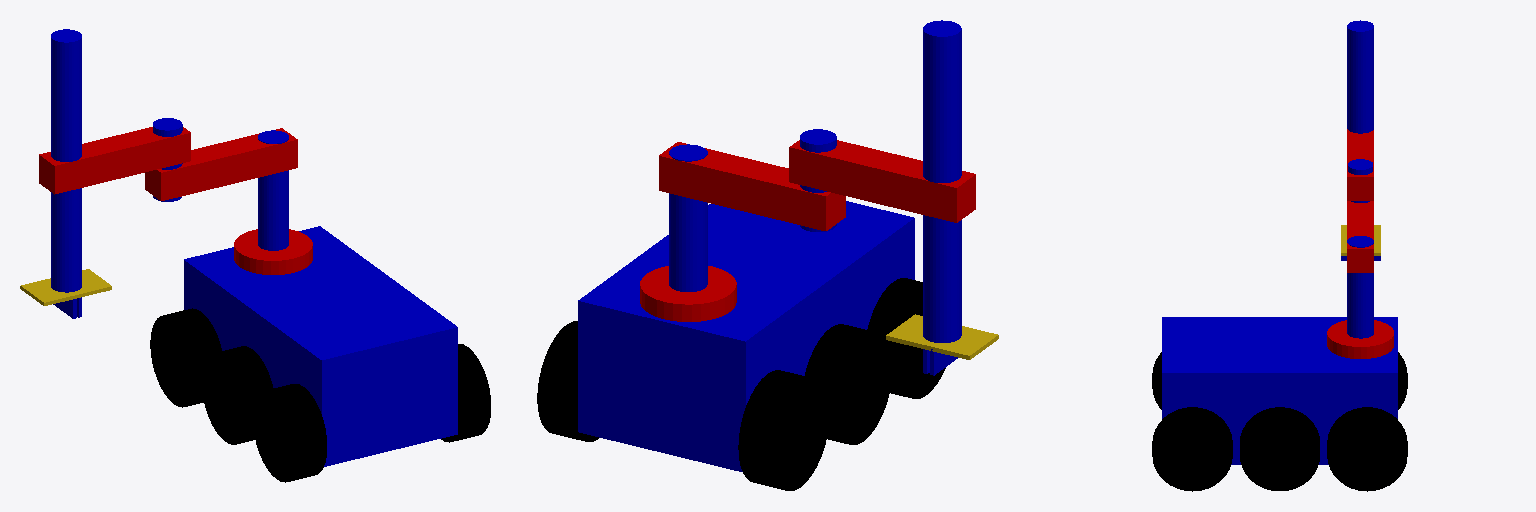
The robot description file, URDF, robot "spydy_gonzalez":
<robot name="spydy_gonzalez" version="1.0">
  <joint name="finger_1_link_joint" type="prismatic">
    <limit lower="0.00000" upper="0.00000" effort="15.00000" velocity="1.00000"/>
    <origin rpy="0.00000 0.00000 0.00000" xyz="0.03000 0.00000 -0.15000"/>
    <parent link="fingers_base_link"/>
    <child link="finger_1_link"/>
    <axis xyz="1.00000 0.00000 0.00000"/>
  </joint>
  <joint name="finger_2_link_joint" type="prismatic">
    <limit lower="0.00000" upper="0.00000" effort="15.00000" velocity="1.00000"/>
    <origin rpy="0.00000 0.00000 0.00000" xyz="-0.05000 0.00000 -0.15000"/>
    <parent link="fingers_base_link"/>
    <child link="finger_2_link"/>
    <axis xyz="-1.00000 0.00000 0.00000"/>
  </joint>
  <joint name="fingers_base_link_joint" type="continuous">
    <limit lower="-90" upper="90" effort="0.00000" velocity="0.00000"/>
    <origin rpy="0.00000 0.00000 0.00000" xyz="0.00000 -0.00000 -1.65000"/>
    <parent link="scara_gripper_arm_link"/>
    <child link="fingers_base_link"/>
    <axis xyz="0.00000 0.00000 1.00000"/>
  </joint>
  <joint name="left_center_wheel_link_joint" type="continuous">
    <limit lower="0" upper="0" effort="0.00000" velocity="0.00000"/>
    <origin rpy="-0.00000 1.57080 0.00000" xyz="-1.20000 0.00000 -0.40000"/>
    <parent link="base_link"/>
    <child link="left_center_wheel_link"/>
    <axis xyz="0.00000 0.00000 1.00000"/>
  </joint>
  <joint name="left_front_wheel_link_joint" type="continuous">
    <limit lower="0" upper="0" effort="0.00000" velocity="0.00000"/>
    <origin rpy="-0.00000 1.57080 0.00000" xyz="-1.20000 -1.30000 -0.40000"/>
    <parent link="base_link"/>
    <child link="left_front_wheel_link"/>
    <axis xyz="0.00000 0.00000 1.00000"/>
  </joint>
  <joint name="left_rear_wheel_link_joint" type="continuous">
    <limit lower="0" upper="0" effort="0.00000" velocity="0.00000"/>
    <origin rpy="-0.00000 1.57080 0.00000" xyz="-1.20000 1.30000 -0.40000"/>
    <parent link="base_link"/>
    <child link="left_rear_wheel_link"/>
    <axis xyz="0.00000 0.00000 1.00000"/>
  </joint>
  <joint name="right_center_wheel_link_joint" type="continuous">
    <limit lower="0" upper="0" effort="0.00000" velocity="0.00000"/>
    <origin rpy="-0.00000 1.57080 0.00000" xyz="1.20000 0.00000 -0.40000"/>
    <parent link="base_link"/>
    <child link="right_center_wheel_link"/>
    <axis xyz="0.00000 0.00000 1.00000"/>
  </joint>
  <joint name="right_front_wheel_link_joint" type="continuous">
    <limit lower="0" upper="0" effort="0.00000" velocity="0.00000"/>
    <origin rpy="-0.00000 1.57080 0.00000" xyz="1.20000 -1.30000 -0.40000"/>
    <parent link="base_link"/>
    <child link="right_front_wheel_link"/>
    <axis xyz="0.00000 0.00000 1.00000"/>
  </joint>
  <joint name="right_rear_wheel_link_joint" type="continuous">
    <limit lower="0" upper="0" effort="0.00000" velocity="0.00000"/>
    <origin rpy="-0.00000 1.57080 0.00000" xyz="1.20000 1.30000 -0.40000"/>
    <parent link="base_link"/>
    <child link="right_rear_wheel_link"/>
    <axis xyz="0.00000 0.00000 1.00000"/>
  </joint>
  <joint name="scara_base_link_joint" type="fixed">
    <origin rpy="0.00000 0.00000 0.00000" xyz="0.00000 1.20000 0.85000"/>
    <parent link="base_link"/>
    <child link="scara_base_link"/>
  </joint>
  <joint name="scara_gripper_arm_link_joint" type="prismatic">
    <limit lower="-1.5" upper="1.5" effort="15.00000" velocity="1.00000"/>
    <origin rpy="0.00000 0.00000 0.00000" xyz="-0.71000 0.00000 0.00000"/>
    <parent link="scara_l2_link"/>
    <child link="scara_gripper_arm_link"/>
    <axis xyz="0.00000 0.00000 1.00000"/>
  </joint>
  <joint name="scara_l1_link_joint" type="fixed">
    <origin rpy="0.00000 0.00000 0.00000" xyz="-0.76000 -0.00000 1.04000"/>
    <parent link="scara_q1_link"/>
    <child link="scara_l1_link"/>
  </joint>
  <joint name="scara_l2_link_joint" type="fixed">
    <origin rpy="0.00000 0.00000 0.00000" xyz="-0.77000 -0.00000 0.21000"/>
    <parent link="scara_q2_link"/>
    <child link="scara_l2_link"/>
  </joint>
  <joint name="scara_q1_link_joint" type="continuous">
    <limit lower="-90" upper="90"  effort="15.00000" velocity="1.00000"/>
    <origin rpy="0.00000 0.00000 0.00000" xyz="0.00000 0.00000 0.85000"/>
    <parent link="scara_base_link"/>
    <child link="scara_q1_link"/>
    <axis xyz="0.00000 0.00000 1.00000"/>
  </joint>
  <joint name="scara_q2_link_joint" type="continuous">
    <limit lower="-90" upper="90" effort="15.00000" velocity="1.00000"/>
    <origin rpy="0.00000 0.00000 0.00000" xyz="-0.79000 -0.00000 -0.25000"/>
    <parent link="scara_l1_link"/>
    <child link="scara_q2_link"/>
    <axis xyz="0.00000 0.00000 1.00000"/>
  </joint>
  <link name="base_link">
    <collision name="base_collision">
      <origin rpy="0.00000 0.00000 0.00000" xyz="0.00000 0.00000 0.00000"/>
      <geometry>
        <box size="2.00000 3.50000 1.50000"/>
      </geometry>
    </collision>
    <inertial>
      <inertia ixx="120.83333" ixy="0.00000" ixz="0.00000" iyy="52.08333" iyz="0.00000" izz="135.41667"/>
      <origin rpy="0.00000 0.00000 0.00000" xyz="0.00000 0.00000 0.00000"/>
      <mass value="100.00000"/>
    </inertial>
    <visual name="base">
      <origin rpy="0.00000 0.00000 0.00000" xyz="0.00000 0.00000 0.00000"/>
      <material name="Material.002"/>
      <geometry>
        <mesh filename="../meshes/dae/Cube.001.dae" scale="1.00000 1.75000 0.75000"/>
      </geometry>
    </visual>
  </link>
  <link name="finger_1_link">
    <collision name="finger_1_collision">
      <origin rpy="0.00000 0.00000 0.00000" xyz="-0.00000 0.00000 -0.00000"/>
      <geometry>
        <box size="0.05000 0.60000 0.30000"/>
      </geometry>
    </collision>
    <inertial>
      <inertia ixx="0.03750" ixy="0.00000" ixz="0.00000" iyy="0.00771" iyz="0.00000" izz="0.03021"/>
      <origin rpy="0.00000 0.00000 0.00000" xyz="0.00000 -0.00000 0.00000"/>
      <mass value="5.00000"/>
    </inertial>
    <visual name="finger_1">
      <origin rpy="0.00000 0.00000 0.00000" xyz="-0.00000 0.00000 -0.00000"/>
      <material name="Material.002"/>
      <geometry>
        <box size="0.05000 0.60000 0.30000"/>
      </geometry>
    </visual>
  </link>
  <link name="finger_2_link">
    <collision name="finger_2_collision">
      <origin rpy="0.00000 0.00000 0.00000" xyz="-0.00000 0.00000 -0.00000"/>
      <geometry>
        <box size="0.05000 0.60000 0.30000"/>
      </geometry>
    </collision>
    <inertial>
      <inertia ixx="0.03750" ixy="0.00000" ixz="0.00000" iyy="0.00771" iyz="0.00000" izz="0.03021"/>
      <origin rpy="0.00000 0.00000 0.00000" xyz="-0.00000 -0.00000 0.00000"/>
      <mass value="5.00000"/>
    </inertial>
    <visual name="finger_2">
      <origin rpy="0.00000 0.00000 0.00000" xyz="-0.00000 0.00000 -0.00000"/>
      <material name="Material.002"/>
      <geometry>
        <box size="0.05000 0.60000 0.30000"/>
      </geometry>
    </visual>
  </link>
  <link name="fingers_base_link">
    <collision name="fingers_base_collision">
      <origin rpy="0.00000 0.00000 0.00000" xyz="0.00000 0.00000 0.00000"/>
      <geometry>
        <mesh filename="../meshes/dae/Cube.220.dae" scale="1.00000 1.00000 1.00000"/>
      </geometry>
    </collision>
    <inertial>
      <inertia ixx="0.45312" ixy="0.00000" ixz="0.00000" iyy="1.25313" iyz="0.00000" izz="1.70000"/>
      <origin rpy="0.00000 0.00000 0.00000" xyz="-0.00000 -0.00000 0.00000"/>
      <mass value="5.00000"/>
    </inertial>
    <visual name="fingers_base">
      <origin rpy="0.00000 0.00000 0.00000" xyz="-0.00000 0.00000 0.00000"/>
      <material name="Material.003"/>
      <geometry>
        <mesh filename="../meshes/dae/Cube.219.dae" scale="0.50000 0.30000 0.02500"/>
      </geometry>
    </visual>
  </link>
  <link name="left_center_wheel_link">
    <collision name="left_center_wheel_collision">
      <origin rpy="0.00000 0.00000 0.00000" xyz="0.00000 0.00000 -0.00000"/>
      <geometry>
        <mesh filename="../meshes/dae/Cylinder.005.dae" scale="0.50000 0.50000 0.50000"/>
      </geometry>
    </collision>
    <inertial>
      <inertia ixx="1.78847" ixy="0.00000" ixz="-0.00000" iyy="1.02757" iyz="-0.00000" izz="1.02757"/>
      <origin rpy="0.00000 0.00000 0.00000" xyz="0.00000 0.00000 -0.00000"/>
      <mass value="10.00000"/>
    </inertial>
    <visual name="left_center_wheel">
      <origin rpy="0.00000 0.00000 0.00000" xyz="-0.00000 0.00000 0.00000"/>
      <material name="Material.001"/>
      <geometry>
        <mesh filename="../meshes/dae/Cylinder.005.dae" scale="0.50000 0.50000 0.50000"/>
      </geometry>
    </visual>
  </link>
  <link name="left_front_wheel_link">
    <collision name="left_front_wheel_collision">
      <origin rpy="0.00000 0.00000 0.00000" xyz="0.00000 0.00000 -0.00000"/>
      <geometry>
        <mesh filename="../meshes/dae/Cylinder.006.dae" scale="0.50000 0.50000 0.50000"/>
      </geometry>
    </collision>
    <inertial>
      <inertia ixx="1.78847" ixy="0.00000" ixz="-0.00000" iyy="1.02757" iyz="-0.00000" izz="1.02757"/>
      <origin rpy="0.00000 0.00000 0.00000" xyz="0.00000 0.00000 -0.00000"/>
      <mass value="10.00000"/>
    </inertial>
    <visual name="left_front_wheel">
      <origin rpy="0.00000 0.00000 0.00000" xyz="-0.00000 0.00000 0.00000"/>
      <material name="Material.001"/>
      <geometry>
        <mesh filename="../meshes/dae/Cylinder.006.dae" scale="0.50000 0.50000 0.50000"/>
      </geometry>
    </visual>
  </link>
  <link name="left_rear_wheel_link">
    <collision name="left_rear_wheel_collision">
      <origin rpy="0.00000 0.00000 0.00000" xyz="0.00000 -0.00000 -0.00000"/>
      <geometry>
        <mesh filename="../meshes/dae/Cylinder.007.dae" scale="0.50000 0.50000 0.50000"/>
      </geometry>
    </collision>
    <inertial>
      <inertia ixx="1.78847" ixy="0.00000" ixz="-0.00000" iyy="1.02757" iyz="-0.00000" izz="1.02757"/>
      <origin rpy="0.00000 0.00000 0.00000" xyz="0.00000 0.00000 -0.00000"/>
      <mass value="10.00000"/>
    </inertial>
    <visual name="left_rear_wheel">
      <origin rpy="0.00000 0.00000 0.00000" xyz="-0.00000 -0.00000 0.00000"/>
      <material name="Material.001"/>
      <geometry>
        <mesh filename="../meshes/dae/Cylinder.007.dae" scale="0.50000 0.50000 0.50000"/>
      </geometry>
    </visual>
  </link>
  <link name="right_center_wheel_link">
    <collision name="right_center_wheel_collision">
      <origin rpy="0.00000 0.00000 0.00000" xyz="0.00000 0.00000 0.00000"/>
      <geometry>
        <mesh filename="../meshes/dae/Cylinder.002.dae" scale="0.50000 0.50000 0.50000"/>
      </geometry>
    </collision>
    <inertial>
      <inertia ixx="1.78847" ixy="0.00000" ixz="-0.00000" iyy="1.02757" iyz="-0.00000" izz="1.02757"/>
      <origin rpy="0.00000 0.00000 0.00000" xyz="0.00000 0.00000 0.00000"/>
      <mass value="10.00000"/>
    </inertial>
    <visual name="right_center_wheel">
      <origin rpy="0.00000 0.00000 0.00000" xyz="-0.00000 0.00000 -0.00000"/>
      <material name="Material.001"/>
      <geometry>
        <mesh filename="../meshes/dae/Cylinder.002.dae" scale="0.50000 0.50000 0.50000"/>
      </geometry>
    </visual>
  </link>
  <link name="right_front_wheel_link">
    <collision name="right_front_wheel_collision">
      <origin rpy="0.00000 0.00000 0.00000" xyz="0.00000 0.00000 0.00000"/>
      <geometry>
        <mesh filename="../meshes/dae/Cylinder.004.dae" scale="0.50000 0.50000 0.50000"/>
      </geometry>
    </collision>
    <inertial>
      <inertia ixx="1.78847" ixy="0.00000" ixz="-0.00000" iyy="1.02757" iyz="-0.00000" izz="1.02757"/>
      <origin rpy="0.00000 0.00000 0.00000" xyz="0.00000 0.00000 0.00000"/>
      <mass value="10.00000"/>
    </inertial>
    <visual name="right_front_wheel">
      <origin rpy="0.00000 0.00000 0.00000" xyz="-0.00000 0.00000 -0.00000"/>
      <material name="Material.001"/>
      <geometry>
        <mesh filename="../meshes/dae/Cylinder.004.dae" scale="0.50000 0.50000 0.50000"/>
      </geometry>
    </visual>
  </link>
  <link name="right_rear_wheel_link">
    <collision name="right_rear_wheel_collision">
      <origin rpy="0.00000 0.00000 0.00000" xyz="0.00000 -0.00000 0.00000"/>
      <geometry>
        <mesh filename="../meshes/dae/Cylinder.003.dae" scale="0.50000 0.50000 0.50000"/>
      </geometry>
    </collision>
    <inertial>
      <inertia ixx="1.78847" ixy="0.00000" ixz="-0.00000" iyy="1.02757" iyz="-0.00000" izz="1.02757"/>
      <origin rpy="0.00000 0.00000 0.00000" xyz="0.00000 0.00000 0.00000"/>
      <mass value="10.00000"/>
    </inertial>
    <visual name="right_rear_wheel">
      <origin rpy="0.00000 0.00000 0.00000" xyz="-0.00000 -0.00000 -0.00000"/>
      <material name="Material.001"/>
      <geometry>
        <mesh filename="../meshes/dae/Cylinder.003.dae" scale="0.50000 0.50000 0.50000"/>
      </geometry>
    </visual>
  </link>
  <link name="scara_base_link">
    <collision name="scara_base_collision">
      <origin rpy="0.00000 0.00000 0.00000" xyz="0.00000 0.00000 0.00000"/>
      <geometry>
        <cylinder radius="0.50000" length="0.20000"/>
      </geometry>
    </collision>
    <inertial>
      <inertia ixx="0.32917" ixy="0.00000" ixz="0.00000" iyy="0.32917" iyz="0.00000" izz="0.62500"/>
      <origin rpy="0.00000 0.00000 0.00000" xyz="0.00000 0.00000 0.00000"/>
      <mass value="500.00000"/>
    </inertial>
    <visual name="scara_base">
      <origin rpy="0.00000 0.00000 0.00000" xyz="0.00000 0.00000 0.00000"/>
      <material name="Material.004"/>
      <geometry>
        <mesh filename="../meshes/dae/Cylinder.dae" scale="0.50000 0.50000 1.00000"/>
      </geometry>
    </visual>
  </link>
  <link name="scara_gripper_arm_link">
    <collision name="scara_gripper_arm_collision">
      <origin rpy="0.00000 0.00000 0.00000" xyz="0.00000 -0.00000 0.12000"/>
      <geometry>
        <mesh filename="../meshes/dae/Cylinder.016.dae" scale="1.00000 1.00000 1.00000"/>
      </geometry>
    </collision>
    <inertial>
      <inertia ixx="2.58981" ixy="0.00000" ixz="0.00000" iyy="2.58981" iyz="0.00000" izz="0.05962"/>
      <origin rpy="0.00000 0.00000 0.00000" xyz="0.00000 -0.00000 0.10000"/>
      <mass value="8.00000"/>
    </inertial>
    <visual name="scara_gripper_arm">
      <origin rpy="0.00000 0.00000 0.00000" xyz="0.00000 -0.00000 0.12000"/>
      <material name="Material.002"/>
      <geometry>
        <mesh filename="../meshes/dae/Cylinder.016.dae" scale="1.00000 1.00000 1.00000"/>
      </geometry>
    </visual>
  </link>
  <link name="scara_l1_link">
    <collision name="scara_l1_collision">
      <origin rpy="0.00000 0.00000 0.00000" xyz="0.00000 0.00000 -0.50000"/>
      <geometry>
        <mesh filename="../meshes/dae/Cube.dae" scale="1.00000 0.20000 0.20000"/>
      </geometry>
    </collision>
    <inertial>
      <inertia ixx="0.08000" ixy="0.00000" ixz="0.00000" iyy="1.04000" iyz="0.00000" izz="1.04000"/>
      <origin rpy="0.00000 0.00000 0.00000" xyz="0.00000 -0.00000 -0.50000"/>
      <mass value="3.00000"/>
    </inertial>
    <visual name="scara_l1">
      <origin rpy="0.00000 0.00000 0.00000" xyz="0.00000 0.00000 -0.50000"/>
      <material name="Material.004"/>
      <geometry>
        <box size="2.00000 0.40000 0.40000"/>
      </geometry>
    </visual>
  </link>
  <link name="scara_l2_link">
    <collision name="scara_l2_collision">
      <origin rpy="0.00000 0.00000 0.00000" xyz="0.00000 0.00000 0.00000"/>
      <geometry>
        <mesh filename="../meshes/dae/Cube.002.dae" scale="1.00000 0.20000 0.20000"/>
      </geometry>
    </collision>
    <inertial>
      <inertia ixx="0.08000" ixy="0.00000" ixz="0.00000" iyy="1.04000" iyz="0.00000" izz="1.04000"/>
      <origin rpy="0.00000 0.00000 0.00000" xyz="-0.00000 0.00000 0.00000"/>
      <mass value="3.00000"/>
    </inertial>
    <visual name="scara_l2">
      <origin rpy="0.00000 0.00000 0.00000" xyz="0.00000 0.00000 0.00000"/>
      <material name="Material.004"/>
      <geometry>
        <box size="2.00000 0.40000 0.40000"/>
      </geometry>
    </visual>
  </link>
  <link name="scara_q1_link">
    <collision name="scara_q1_collision">
      <origin rpy="0.00000 0.00000 0.00000" xyz="0.00000 -0.00000 -0.00000"/>
      <geometry>
        <mesh filename="../meshes/dae/Cylinder.001.dae" scale="1.00000 1.00000 1.00000"/>
      </geometry>
    </collision>
    <inertial>
      <inertia ixx="0.59231" ixy="0.00000" ixz="-0.00000" iyy="0.59231" iyz="-0.00000" izz="0.05962"/>
      <origin rpy="0.00000 0.00000 0.00000" xyz="-0.00000 -0.00000 -0.00000"/>
      <mass value="3.00000"/>
    </inertial>
    <visual name="scara_q1">
      <origin rpy="0.00000 0.00000 0.00000" xyz="0.00000 0.00000 0.00000"/>
      <material name="Material.002"/>
      <geometry>
        <mesh filename="../meshes/dae/Cylinder.001.dae" scale="1.00000 1.00000 1.00000"/>
      </geometry>
    </visual>
  </link>
  <link name="scara_q2_link">
    <collision name="scara_q2_collision">
      <origin rpy="0.00000 0.00000 0.00000" xyz="-0.00000 0.00000 0.00000"/>
      <geometry>
        <mesh filename="../meshes/dae/Cylinder.008.dae" scale="0.95000 0.95000 1.00000"/>
      </geometry>
    </collision>
    <inertial>
      <inertia ixx="0.27690" ixy="0.00000" ixz="0.00000" iyy="0.27690" iyz="0.00000" izz="0.05380"/>
      <origin rpy="0.00000 0.00000 0.00000" xyz="-0.00000 0.00000 0.00000"/>
      <mass value="3.00000"/>
    </inertial>
    <visual name="scara_q2">
      <origin rpy="0.00000 0.00000 0.00000" xyz="-0.00000 0.00000 0.00000"/>
      <material name="Material.002"/>
      <geometry>
        <mesh filename="../meshes/dae/Cylinder.008.dae" scale="0.95000 0.95000 1.00000"/>
      </geometry>
    </visual>
  </link>
  <material name="Material.001">
    <color rgba="0.00000 0.00000 0.00000 1.00000"/>
  </material>
  <material name="Material.002">
    <color rgba="0.00000 0.00392 0.80000 1.00000"/>
  </material>
  <material name="Material.003">
    <color rgba="0.80000 0.68627 0.08235 1.00000"/>
  </material>
  <material name="Material.004">
    <color rgba="0.80000 0.00000 0.00392 1.00000"/>
  </material>
</robot>

--- Facts derived from the render (not from the file) ---
The picture shows the robot from 3 angles, left to right: view 1: azimuth 30°, elevation 25°; view 2: azimuth 150°, elevation 25°; view 3: azimuth 270°, elevation 25°; orthographic projection.
Robot: spydy_gonzalez — 16 links, 15 joints (9 continuous, 3 prismatic, 3 fixed); root link base_link; default pose: all joints at 0.
Links seen in each view (by area): view 1: base_link, scara_gripper_arm_link, left_front_wheel_link, scara_l2_link, scara_l1_link, left_rear_wheel_link, left_center_wheel_link, scara_q1_link, right_front_wheel_link, scara_base_link, fingers_base_link, scara_q2_link; view 2: base_link, scara_gripper_arm_link, left_rear_wheel_link, scara_l2_link, scara_l1_link, left_center_wheel_link, scara_q1_link, left_front_wheel_link, right_rear_wheel_link, scara_base_link, fingers_base_link, scara_q2_link; view 3: base_link, right_front_wheel_link, right_rear_wheel_link, right_center_wheel_link, scara_gripper_arm_link, scara_q1_link, scara_base_link, scara_l1_link, scara_l2_link.
Boxes of the visible links, x1,y1,x2,y2 form: base_link: (184,226,457,466); scara_gripper_arm_link: (51,29,81,292); left_front_wheel_link: (253,384,326,482); scara_l2_link: (39,127,190,194); scara_l1_link: (145,128,297,200); left_rear_wheel_link: (150,308,221,407); left_center_wheel_link: (202,346,273,444); scara_q1_link: (258,130,288,250); right_front_wheel_link: (441,344,490,442); scara_base_link: (234,229,312,274); fingers_base_link: (20,269,111,305); scara_q2_link: (153,118,182,201); base_link: (578,201,914,471); scara_gripper_arm_link: (923,20,961,342); left_rear_wheel_link: (738,370,829,490); scara_l2_link: (789,140,975,222); scara_l1_link: (659,142,845,230); left_center_wheel_link: (805,324,892,444); scara_q1_link: (669,144,707,291); left_front_wheel_link: (867,278,945,398); right_rear_wheel_link: (537,321,598,441); scara_base_link: (640,266,736,321); fingers_base_link: (886,314,998,359); scara_q2_link: (800,129,836,231); base_link: (1162,317,1397,464); right_front_wheel_link: (1152,407,1232,491); right_rear_wheel_link: (1327,407,1407,491); right_center_wheel_link: (1240,407,1319,490); scara_gripper_arm_link: (1347,20,1373,133); scara_q1_link: (1347,236,1373,338); scara_base_link: (1327,320,1393,358); scara_l1_link: (1347,201,1373,272); scara_l2_link: (1347,129,1373,200).
Bounding box of the posed robot: 4.93 × 3.8 × 5.57 m (x, y, z).
Meshes: 12 distinct files referenced, 12 mesh visuals loaded (12 Collada DAE).
